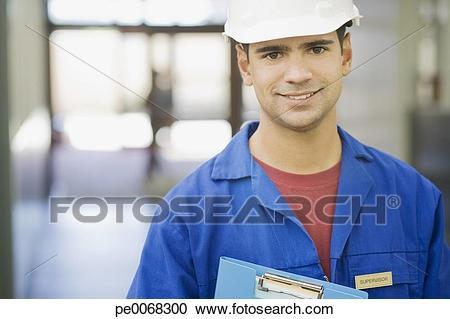helmet: (222, 1, 367, 47)
wear: (121, 149, 450, 298)
